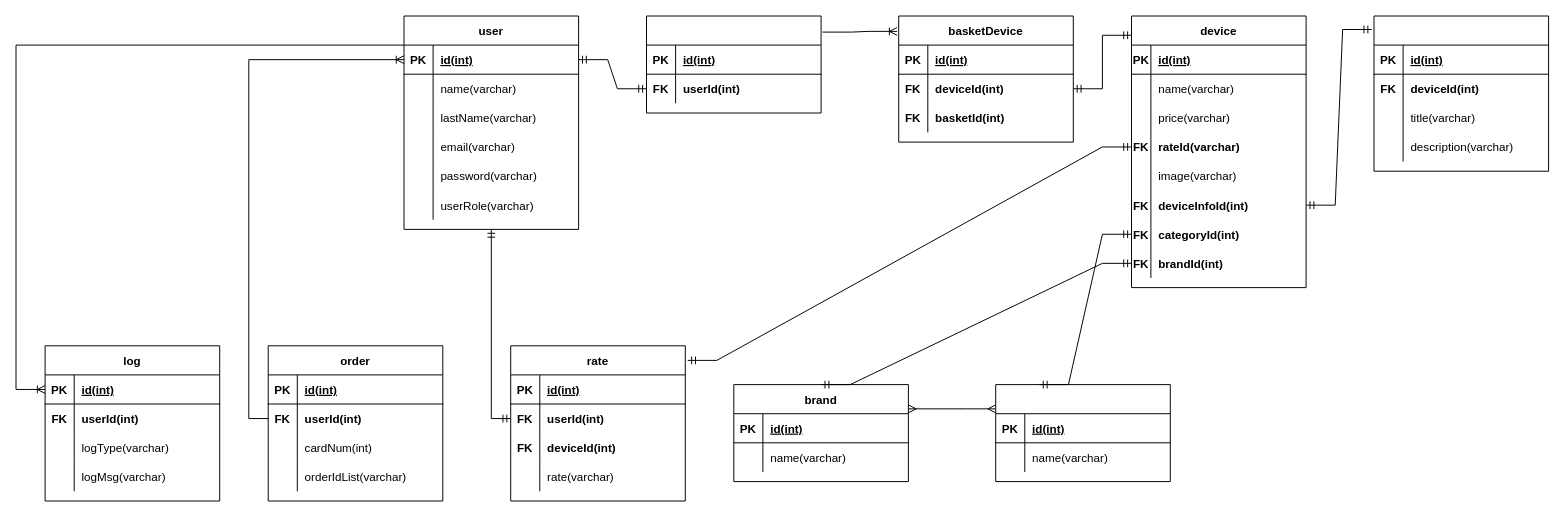
This 1565x517 diagram has some shape labels left out. The box of each missing label's shape, as (x1, y1, x2, y2) in pixels:
basket: (646, 15, 821, 113)
category: (995, 384, 1170, 482)
deviceInfo: (1373, 15, 1549, 171)
